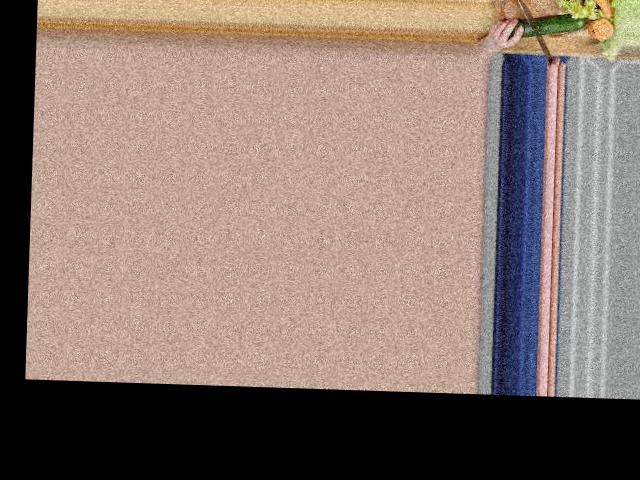cucumber: (509, 13, 586, 39)
